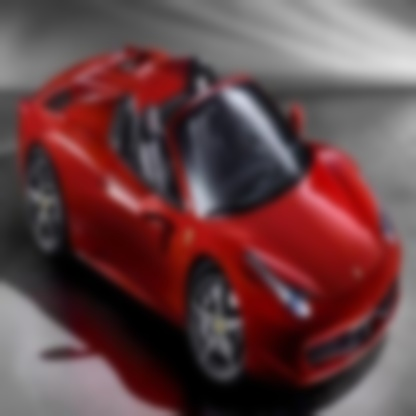Vehicle: (20, 44, 401, 391)
